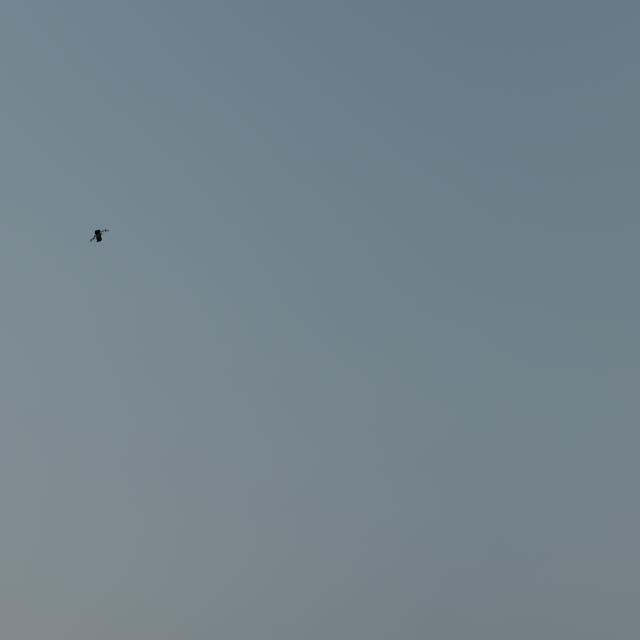drone: (88, 229, 109, 246)
